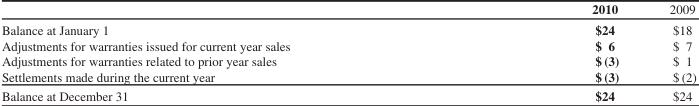table: (0, 1, 695, 102)
table column: (0, 1, 440, 102), (440, 1, 643, 102), (643, 1, 695, 102)
table column header: (0, 1, 695, 19)
table row: (0, 1, 695, 19), (0, 19, 695, 37), (0, 68, 695, 85), (0, 85, 695, 102), (0, 52, 695, 68), (0, 37, 695, 52)
